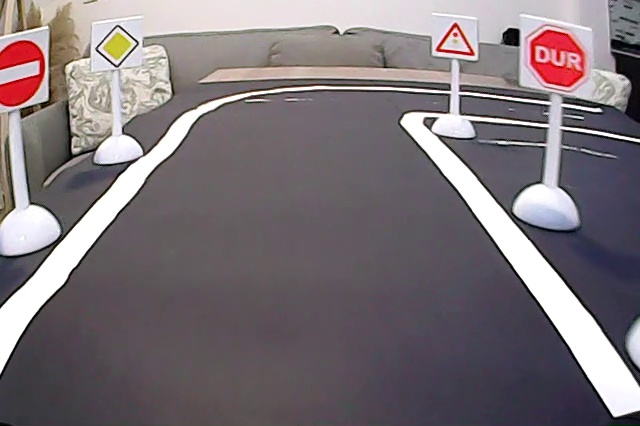do not enter: (1, 38, 52, 113)
red light: (435, 15, 478, 58)
stop sign: (520, 14, 593, 94)
